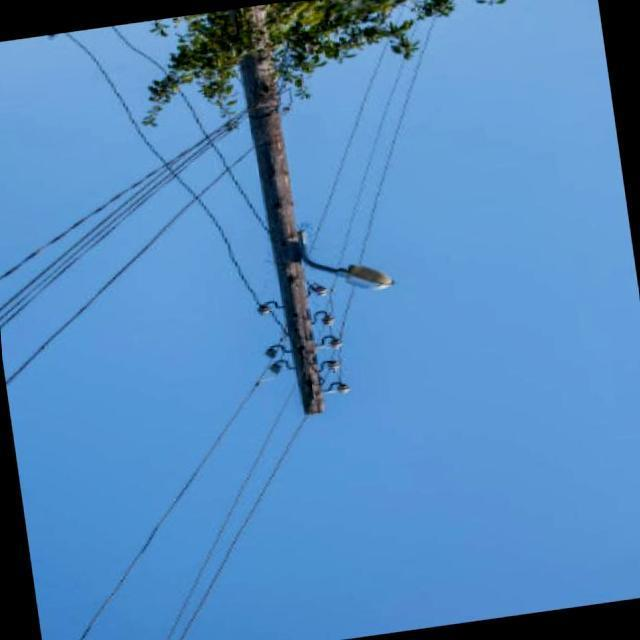critical vegetation: (195, 0, 348, 149)
